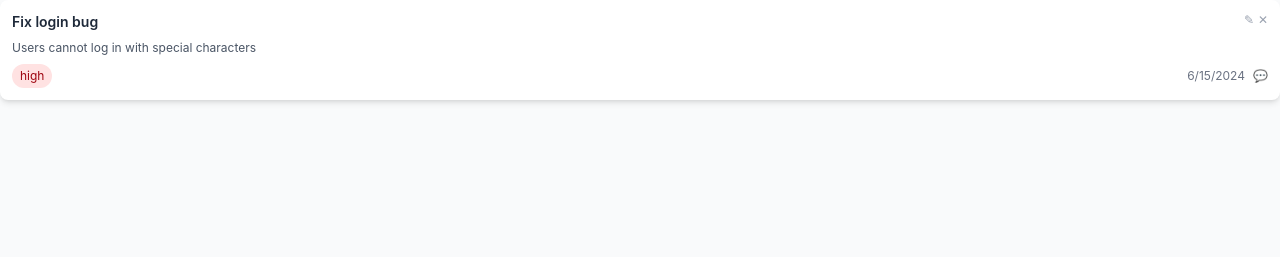
Scenario: TaskCard › edit mode › enters edit mode on edit button click
Click the button titled "Edit task" at point(1249, 20), box [1244, 12, 1254, 28]
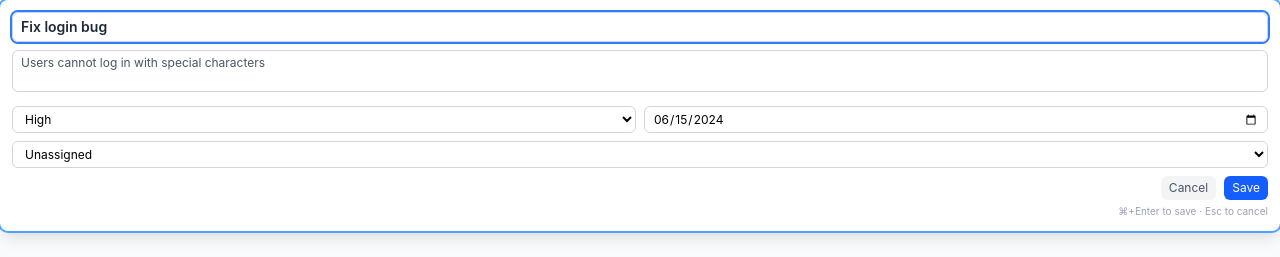
Expected: the field with placeholder "Task title" is shown, [12, 12, 1268, 42]
